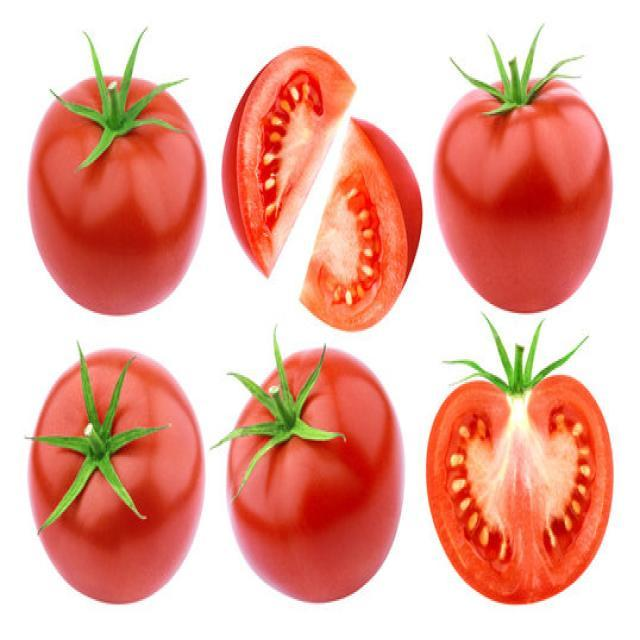kirmizi: (10, 50, 214, 314), (218, 362, 416, 610), (438, 46, 608, 302), (38, 334, 198, 582)
